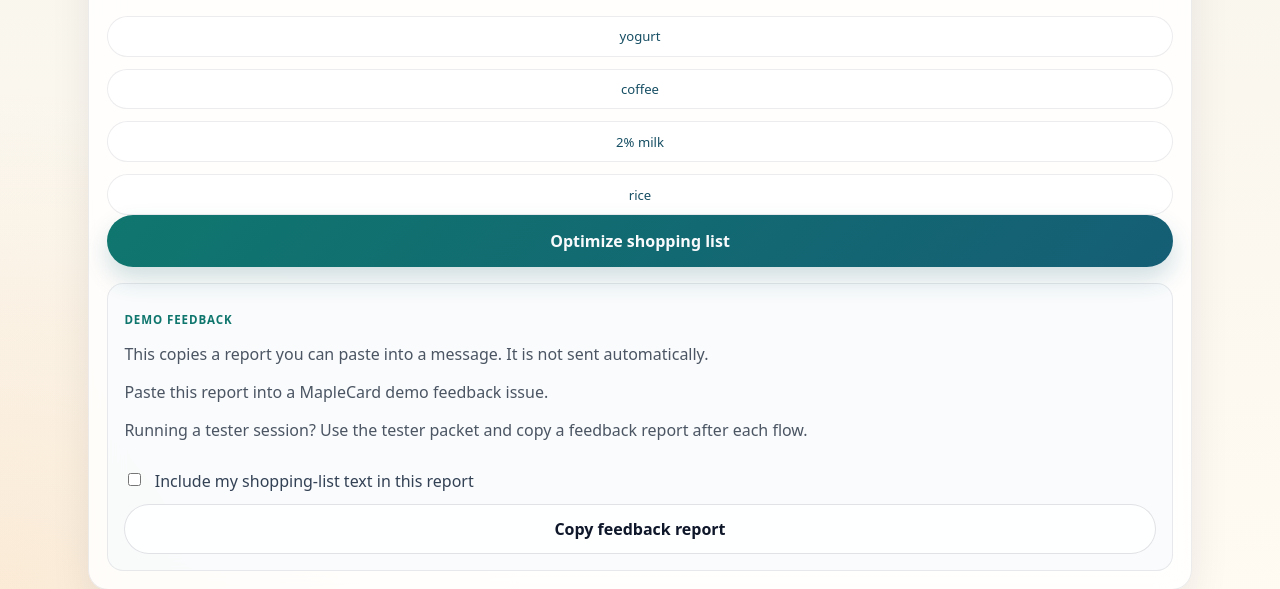
Test: MapleCard mobile web scaffold › renders a safe validation error message from backend mode
(page scrolled)
Click the button "Optimize shopping list" at (640, 241), box [107, 215, 1173, 267]
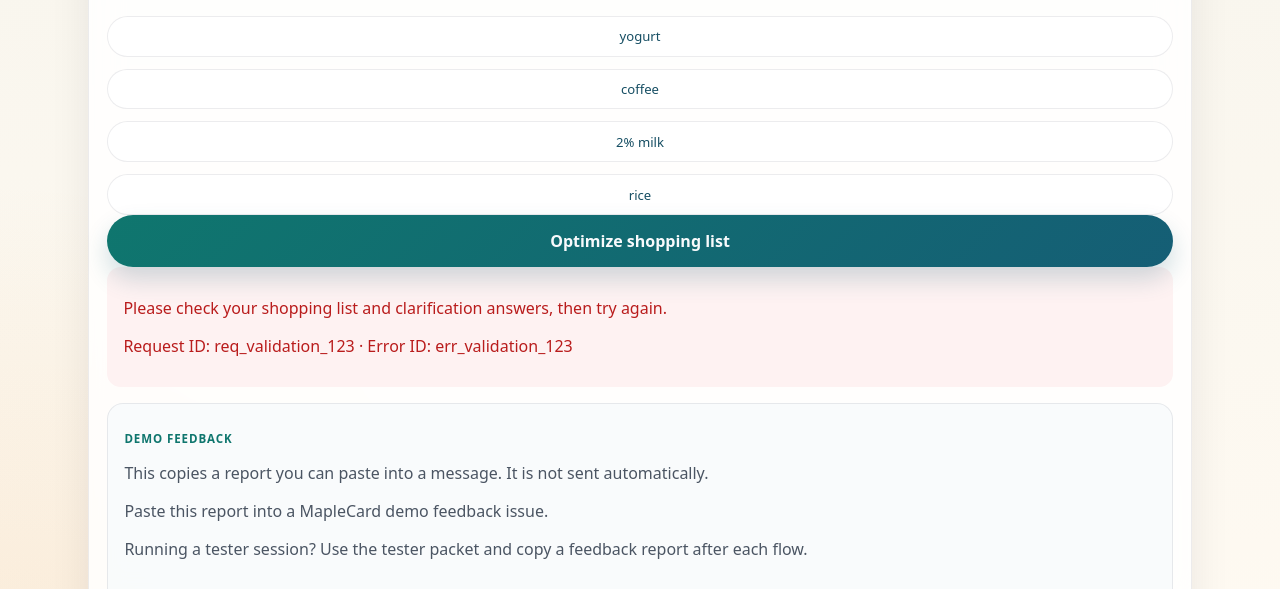
Now the message shows "Please check your shopping list and clarification answers, then try again", box [123, 297, 667, 319]
Now the message shows "request id: req_validation_123", box [123, 335, 355, 357]
Now the message shows "error id: err_validation_123", box [367, 335, 573, 357]
